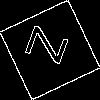Z: (25, 25, 78, 69)
